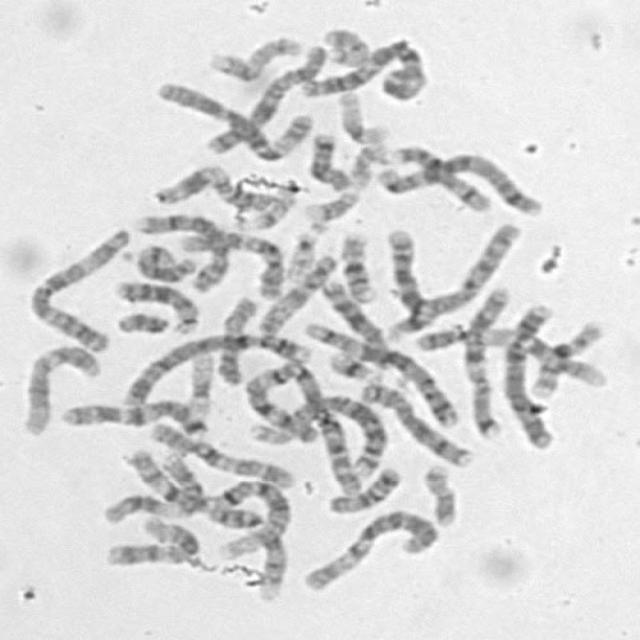A1: (123, 446, 289, 564), (240, 358, 322, 444)
A2: (383, 218, 525, 340), (302, 385, 383, 491)
A3: (22, 220, 133, 354), (294, 34, 432, 102)
B4: (116, 326, 315, 409), (498, 298, 561, 451)
B5: (300, 316, 462, 430), (374, 148, 549, 218)
C10: (142, 418, 297, 490), (174, 225, 287, 301)
C11: (96, 448, 209, 526), (149, 160, 279, 211)
C12: (16, 340, 102, 437), (99, 513, 201, 569)
C6: (151, 75, 315, 162), (297, 503, 443, 594)
C7: (458, 284, 512, 441), (56, 394, 212, 438)
C8: (352, 378, 474, 470), (131, 207, 234, 293)
C9: (408, 321, 613, 389), (202, 492, 292, 604)
D13: (315, 275, 394, 372), (112, 275, 204, 336)
D14: (388, 142, 495, 214), (130, 240, 198, 284)
D15: (251, 248, 340, 336), (211, 291, 261, 386)
E16: (524, 314, 610, 399), (336, 226, 380, 303)
E17: (299, 138, 393, 223), (203, 30, 306, 83)
E18: (322, 461, 402, 515), (304, 128, 354, 192)
F19: (333, 86, 393, 145), (180, 345, 217, 416)
F20: (417, 459, 461, 528), (317, 23, 375, 69)
G21: (323, 345, 384, 383), (390, 301, 440, 345)
G22: (282, 218, 329, 284), (232, 188, 300, 232)
X: (201, 44, 328, 157)
Y: (111, 306, 173, 336)
